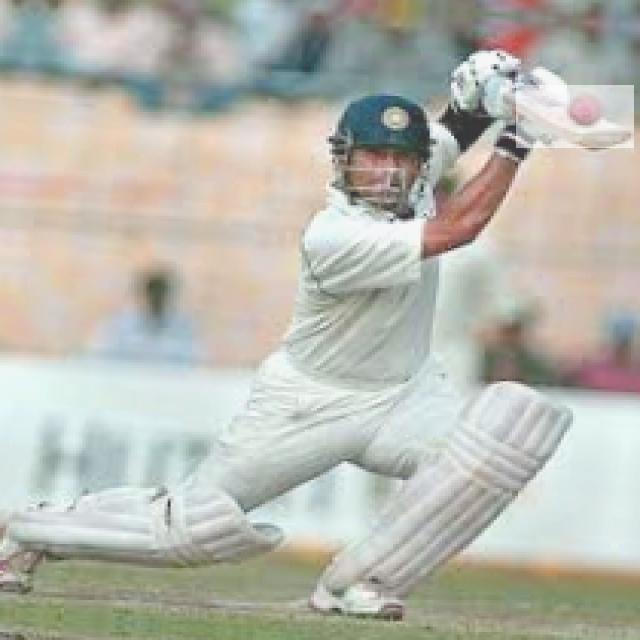bat: (514, 86, 638, 153)
toe: (570, 129, 630, 150)
